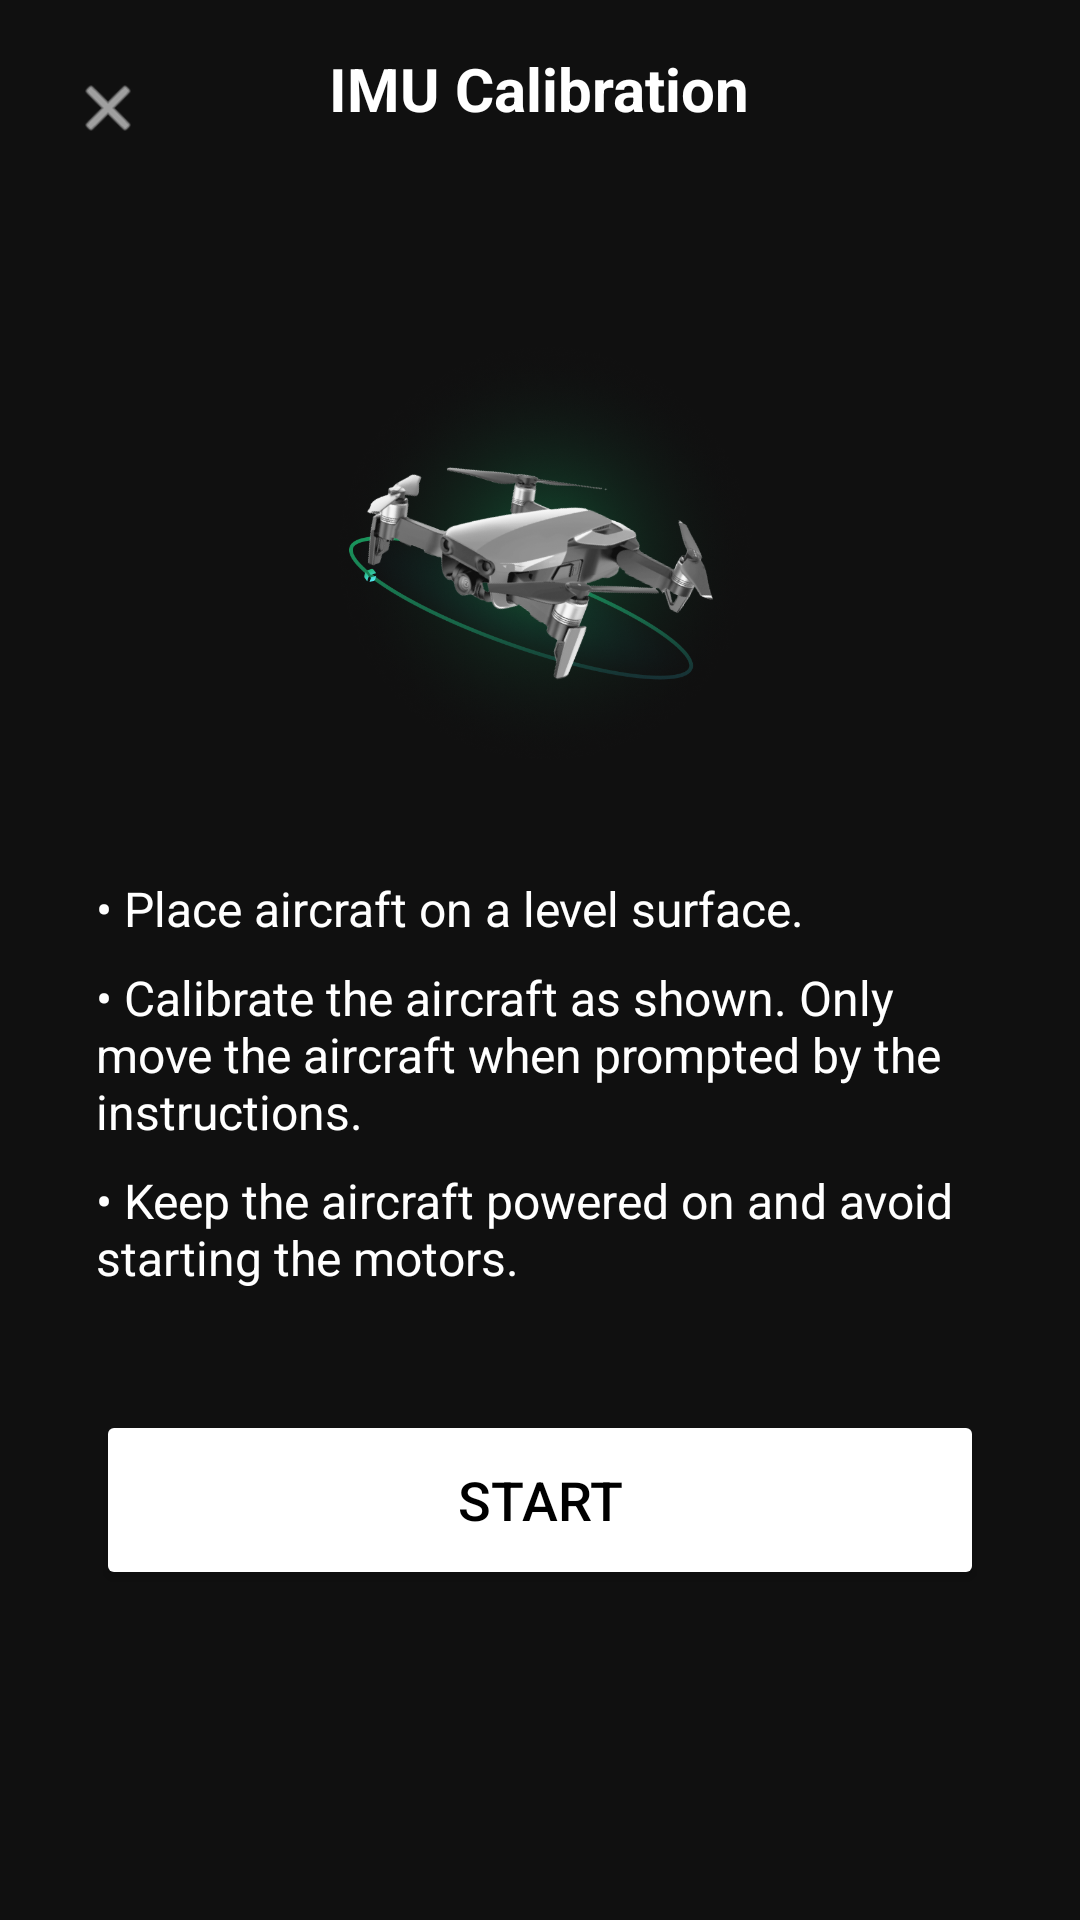

Screen size 1080 x 1920. Icon name, then its center in pixels as point (x, y):
Close: point (108, 108)
